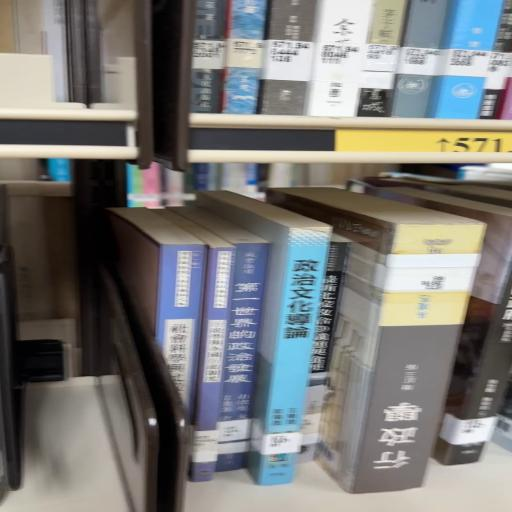reverse: (267, 188, 485, 493)
